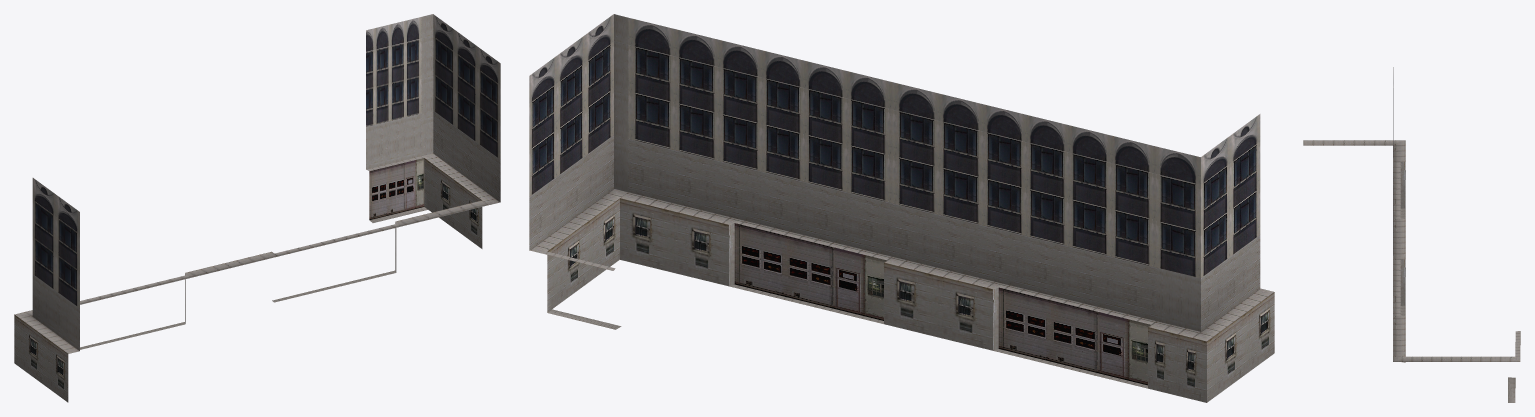
File: M2Zone4_Building12.glb
The picture shows the model from 3 angles, left to right: view 1: azimuth 30°, elevation 25°; view 2: azimuth 150°, elevation 25°; view 3: azimuth 270°, elevation 25°; orthographic projection. The views are drawn at different scales.
Visible parts, largest first — view 1: M2ZONE4_BUILDING12; view 2: M2ZONE4_BUILDING12; view 3: M2ZONE4_BUILDING12.
Boxes of the visible parts, x1,y1,x2,y2 form: M2ZONE4_BUILDING12: [14, 14, 500, 402]; M2ZONE4_BUILDING12: [529, 14, 1274, 402]; M2ZONE4_BUILDING12: [1303, 67, 1520, 402].
Bounding box in the file's own units: 40.98 × 15.37 × 16.98.
Materials: 6 (6 with a texture image).
